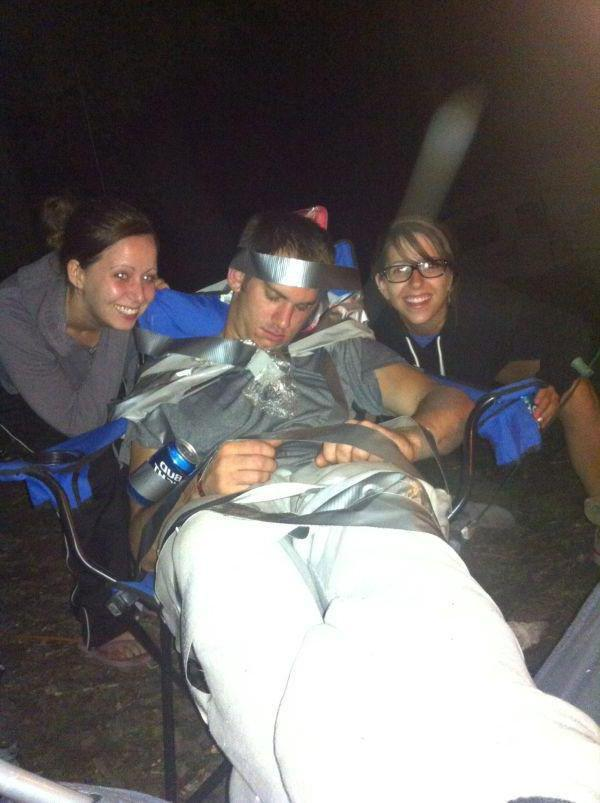Drunk: (87, 230, 160, 332), (241, 265, 321, 348), (381, 237, 453, 321)
